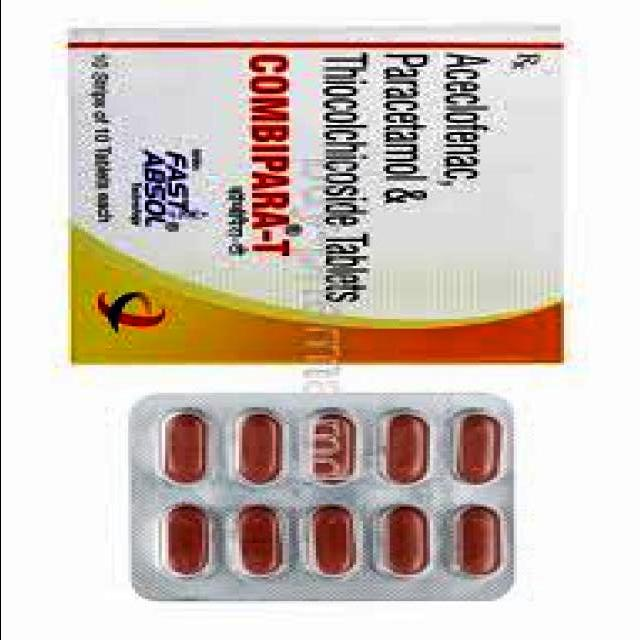authentic: (66, 16, 572, 376), (119, 384, 531, 607)
